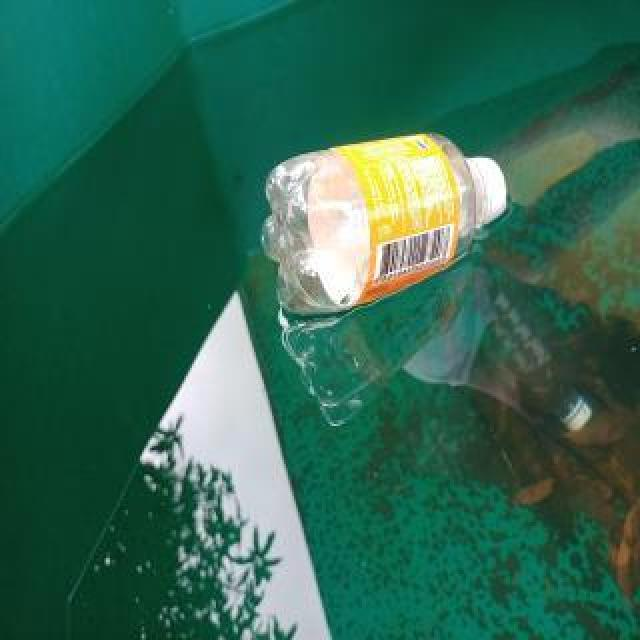bottle: (259, 130, 509, 318)
